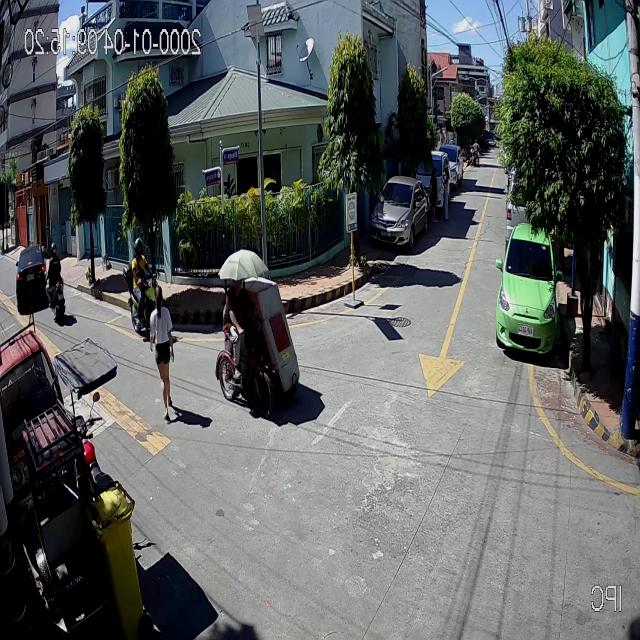standing: (439, 166, 452, 221), (427, 166, 438, 223), (471, 139, 480, 165)
walking: (148, 284, 176, 425)
